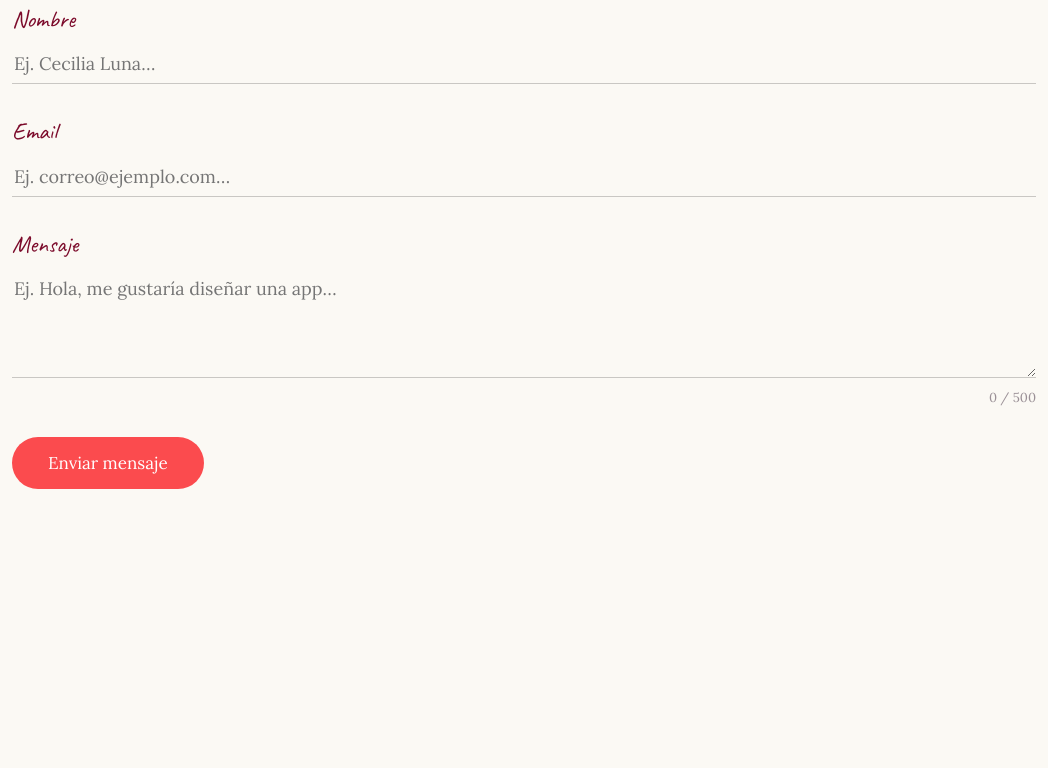
ContactForm › muestra error cuando falla el envío
Type "Juan Pérez" into the field labelled "Nombre" at (524, 64), box [12, 44, 1036, 84]
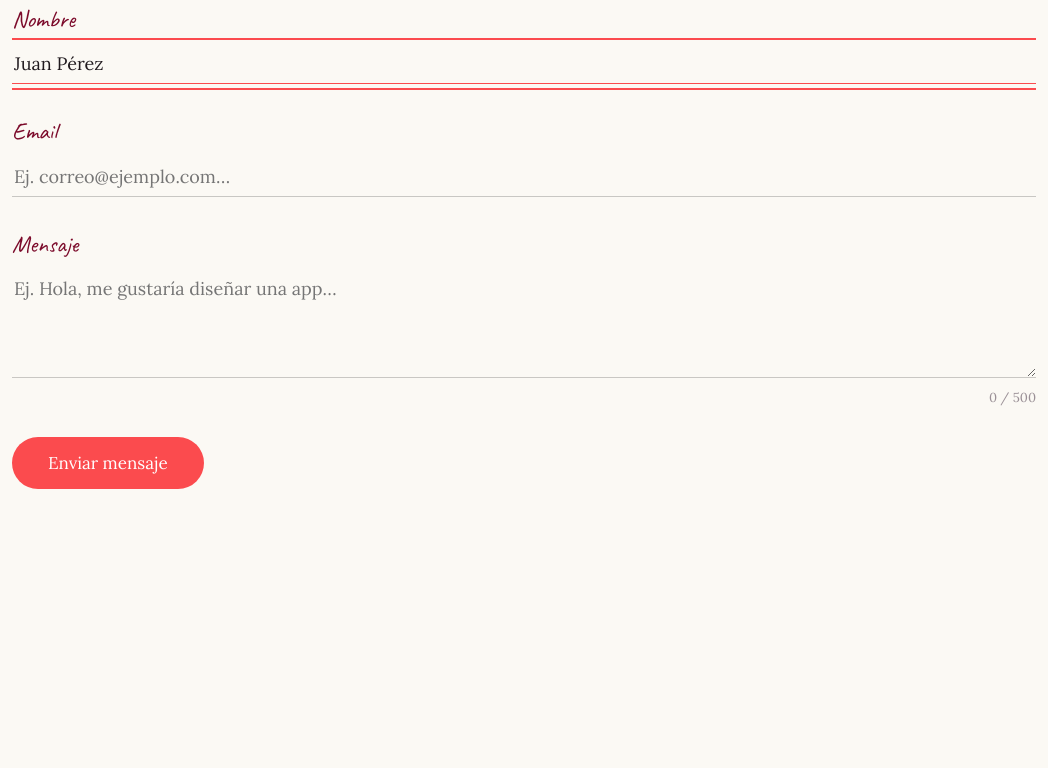
Type "juan@example.com" into the field labelled "Email" at (524, 177), box [12, 157, 1036, 197]
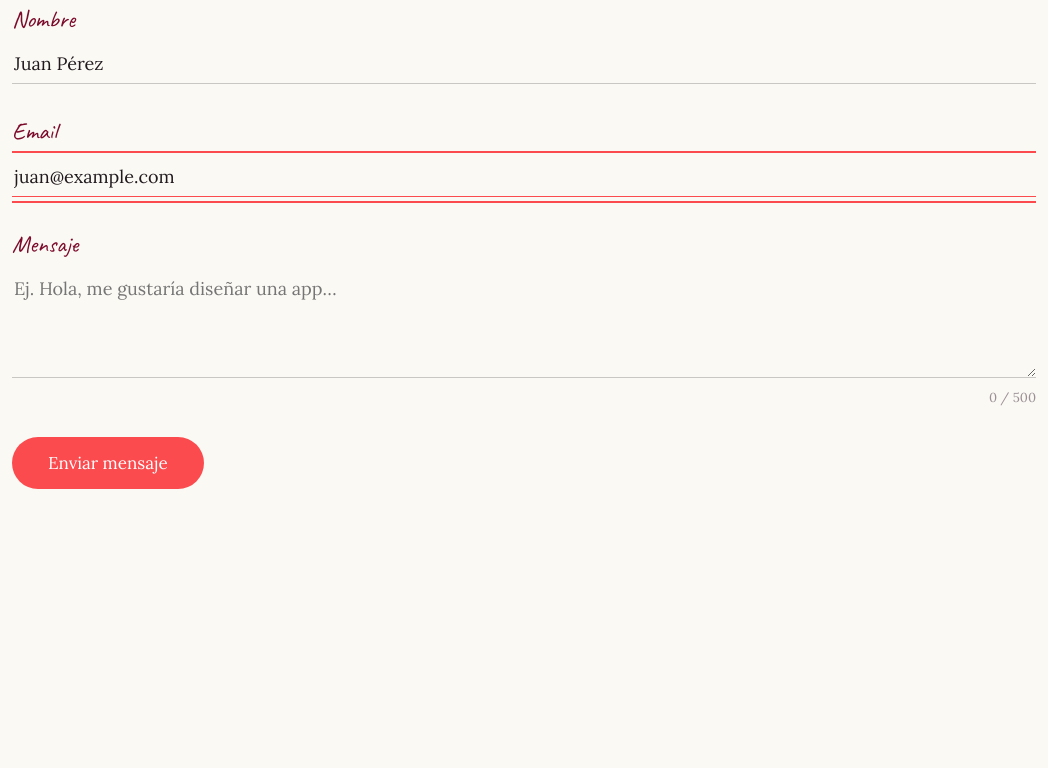
Type "Test mensaje" into the text box labelled "Mensaje" at (524, 324), box [12, 269, 1036, 378]
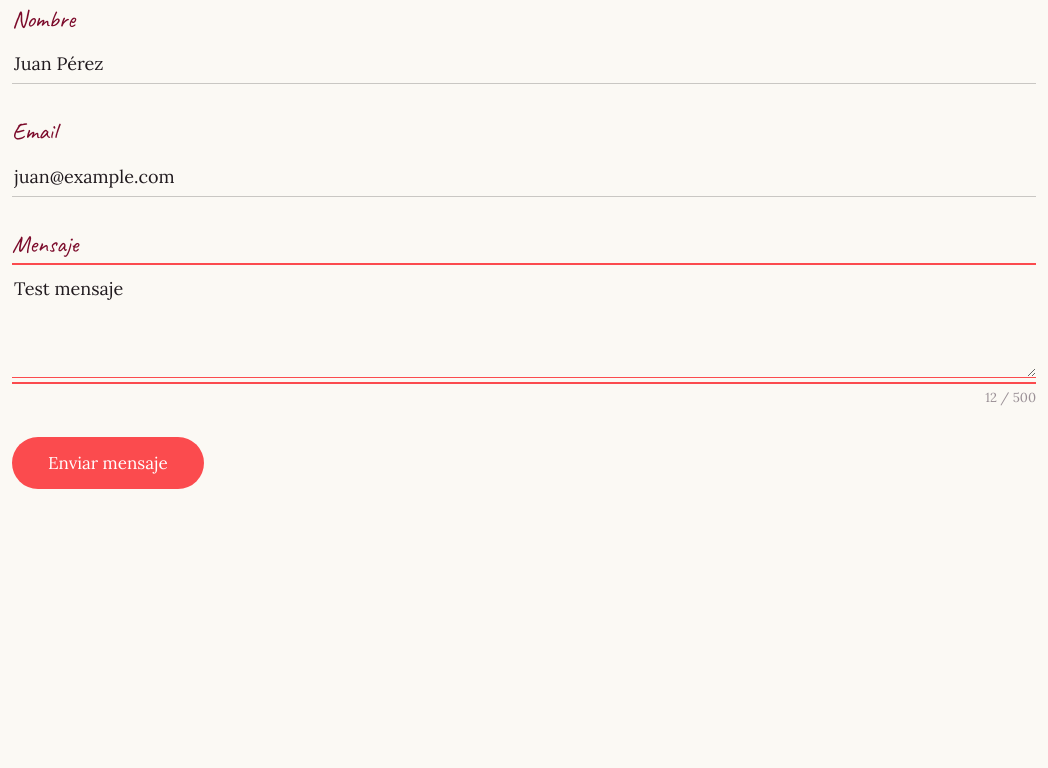
Click the button "Enviar mensaje" at (108, 463), box [12, 437, 204, 489]
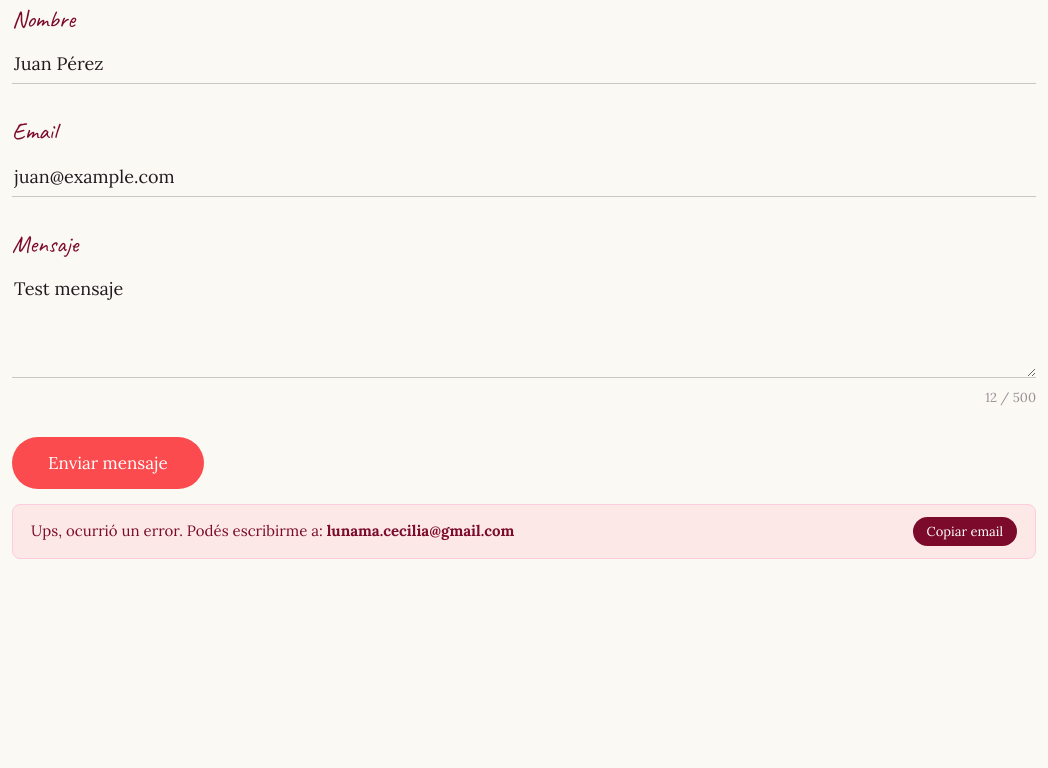
Now the text "ocurrió un error" is shown, box [31, 522, 327, 540]
